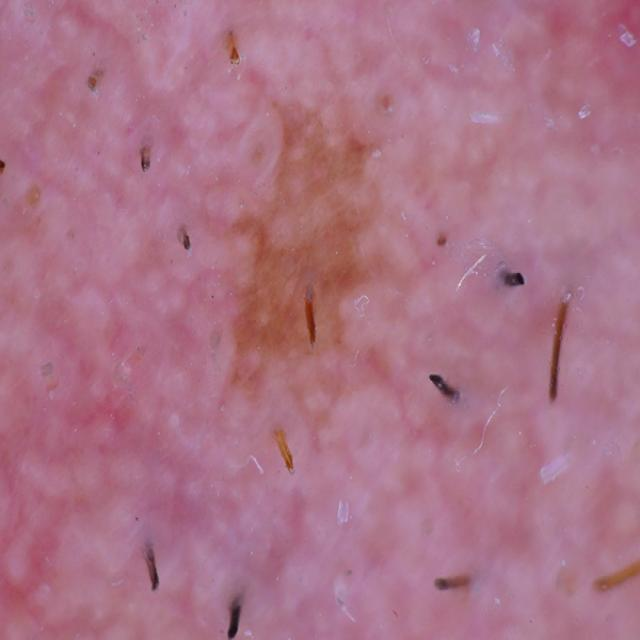Skin-Cancer Pigmented benign keratosis: (0, 0, 640, 631)
